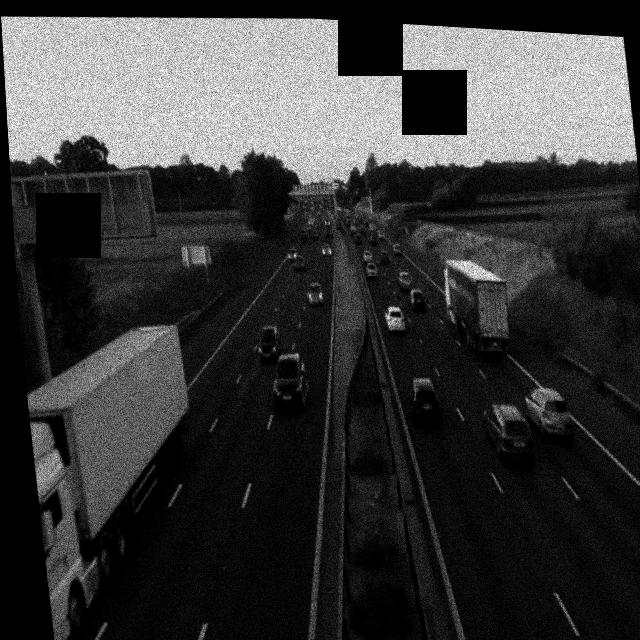car: (482, 401, 536, 464), (524, 386, 575, 443), (270, 351, 312, 413), (407, 376, 442, 427), (256, 325, 283, 364), (385, 304, 406, 332), (408, 287, 429, 312), (306, 281, 325, 307), (398, 270, 414, 291), (290, 251, 304, 270), (366, 263, 380, 281), (378, 249, 390, 267), (320, 241, 332, 257), (286, 246, 298, 262), (363, 250, 374, 266), (393, 242, 404, 257), (353, 231, 362, 246), (325, 226, 334, 238)
truck: (19, 315, 219, 640), (441, 255, 514, 356)
